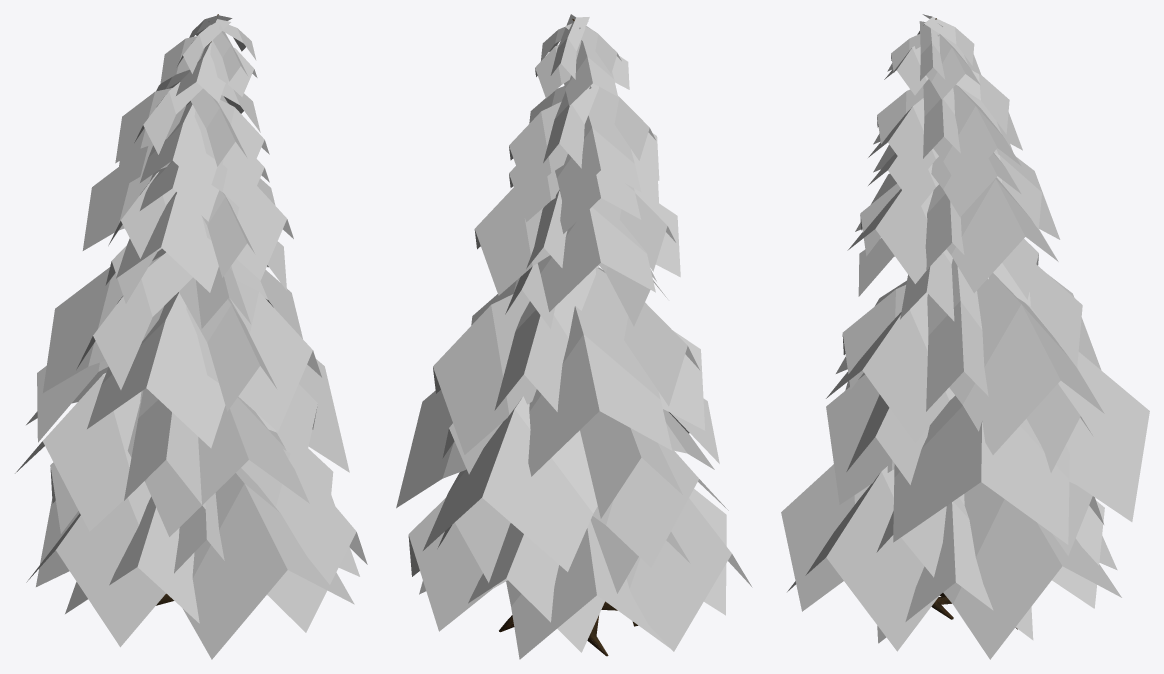
Rendered from ruraltown_pine_tree_00.fbx.
3 views of the same model, side by side, from view 1: azimuth 30°, elevation 25°; view 2: azimuth 150°, elevation 25°; view 3: azimuth 270°, elevation 25° (orthographic).
Visible parts, largest first — view 1: ruraltown_pine_tree_00; view 2: ruraltown_pine_tree_00; view 3: ruraltown_pine_tree_00.
Boxes of the visible parts, x1,y1,x2,y2 form: ruraltown_pine_tree_00: (15, 14, 367, 659); ruraltown_pine_tree_00: (396, 14, 752, 659); ruraltown_pine_tree_00: (781, 14, 1149, 659).
Size of the model in its own units: 18.1 by 34.74 by 19.48.
